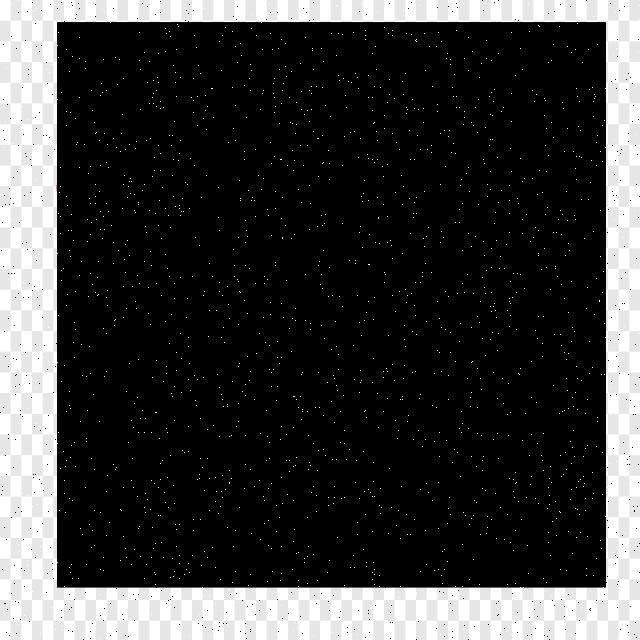Mutton: (58, 23, 606, 589)
